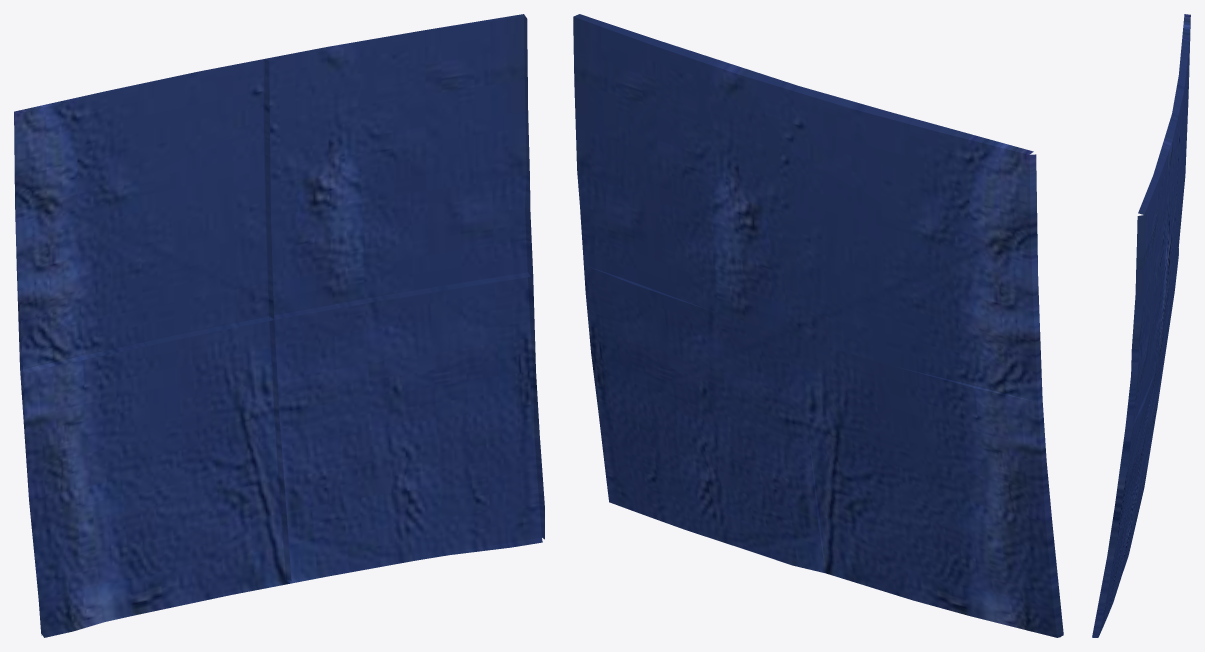
3 renders of one model, left to right at view 1: azimuth 30°, elevation 25°; view 2: azimuth 150°, elevation 25°; view 3: azimuth 270°, elevation 25°, orthographic. The views are drawn at different scales.
Size of the model in its own units: 1258228 by 1251690 by 260629.
1 material, 1 textured.
